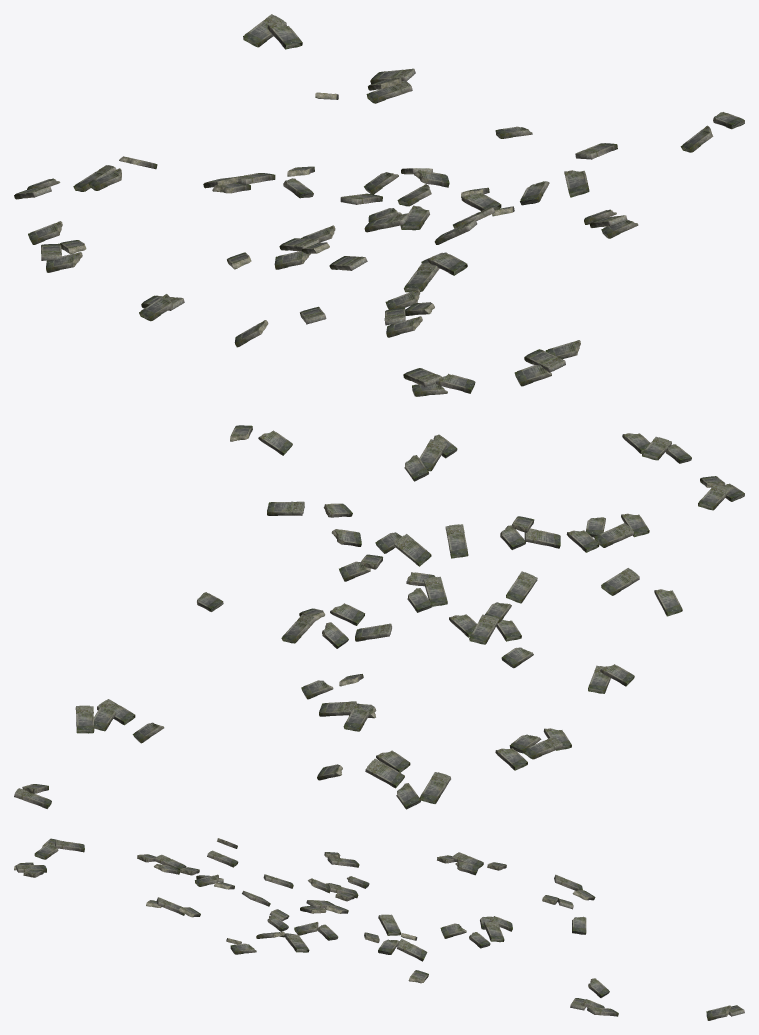
Rendered from tomb05.fbx.
The picture shows the model from 3 angles, top to bottom: view 1: azimuth 30°, elevation 25°; view 2: azimuth 150°, elevation 25°; view 3: azimuth 270°, elevation 25°; orthographic projection. The views are drawn at different scales.
Parts seen in each view (by area): view 1: m001304_0, m001304_1; view 2: m001304_0, m001304_1; view 3: m001304_0, m001304_1.
Part boxes in pixels (x1,y1,x2,y2): m001304_0: (14, 14, 744, 396); m001304_1: (54, 78, 717, 393); m001304_0: (14, 425, 744, 809); m001304_1: (22, 433, 725, 795); m001304_0: (15, 838, 744, 1020); m001304_1: (14, 838, 731, 1015).
Bounding box in the file's own units: 191790 × 51602 × 319345.
Materials: 2 (2 with a texture image).
